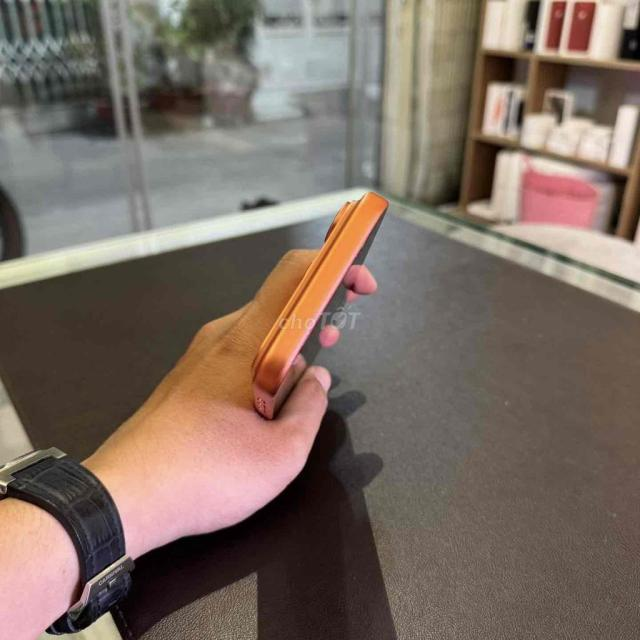gen_17: (238, 188, 408, 424)
